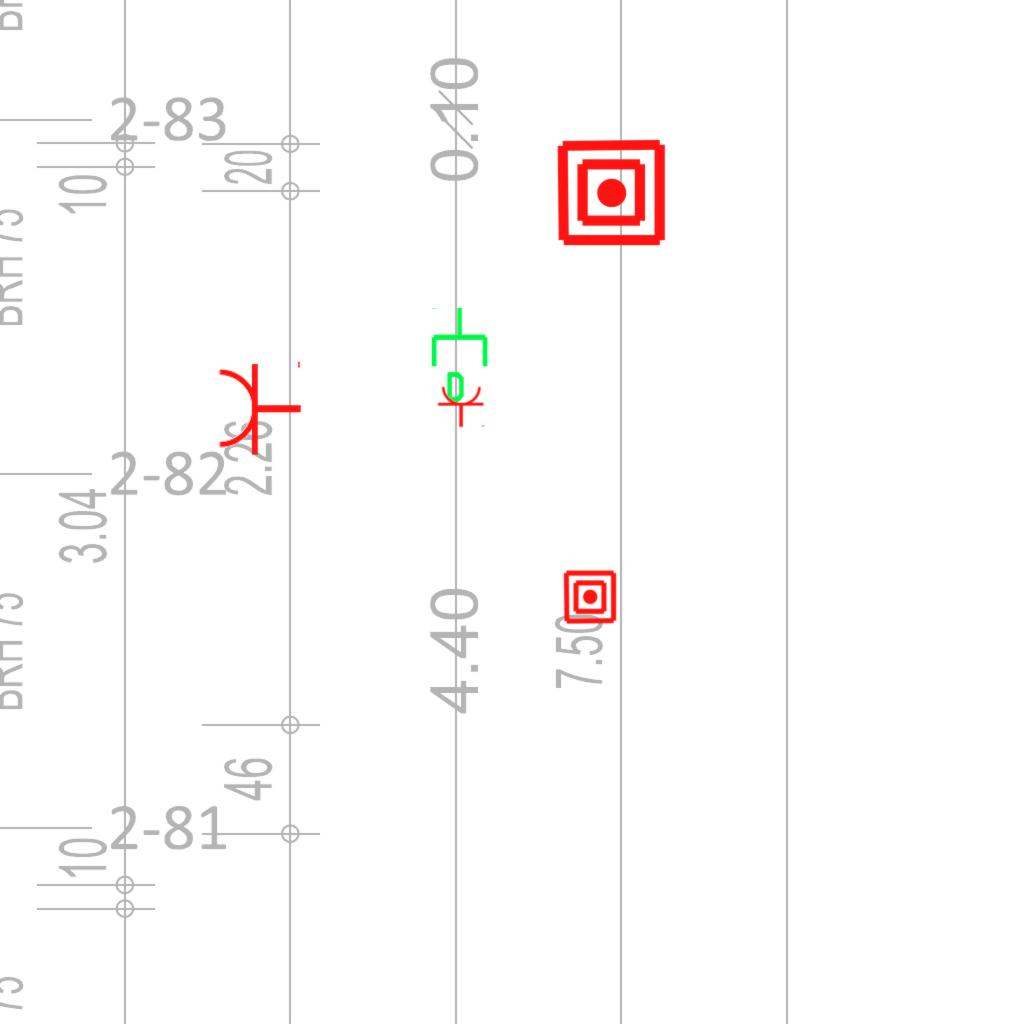Datenanschluss_einfach: (427, 305, 496, 405)
NAM-Nichtautomatischer_Melder: (555, 136, 668, 249), (562, 569, 618, 625)
Schukosteckdose_einfach: (216, 357, 303, 457), (437, 385, 487, 428)
